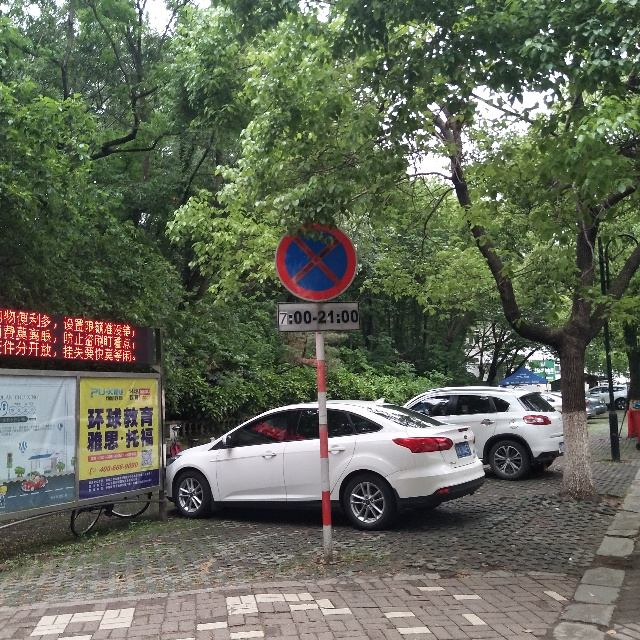stop: (275, 219, 359, 305)
